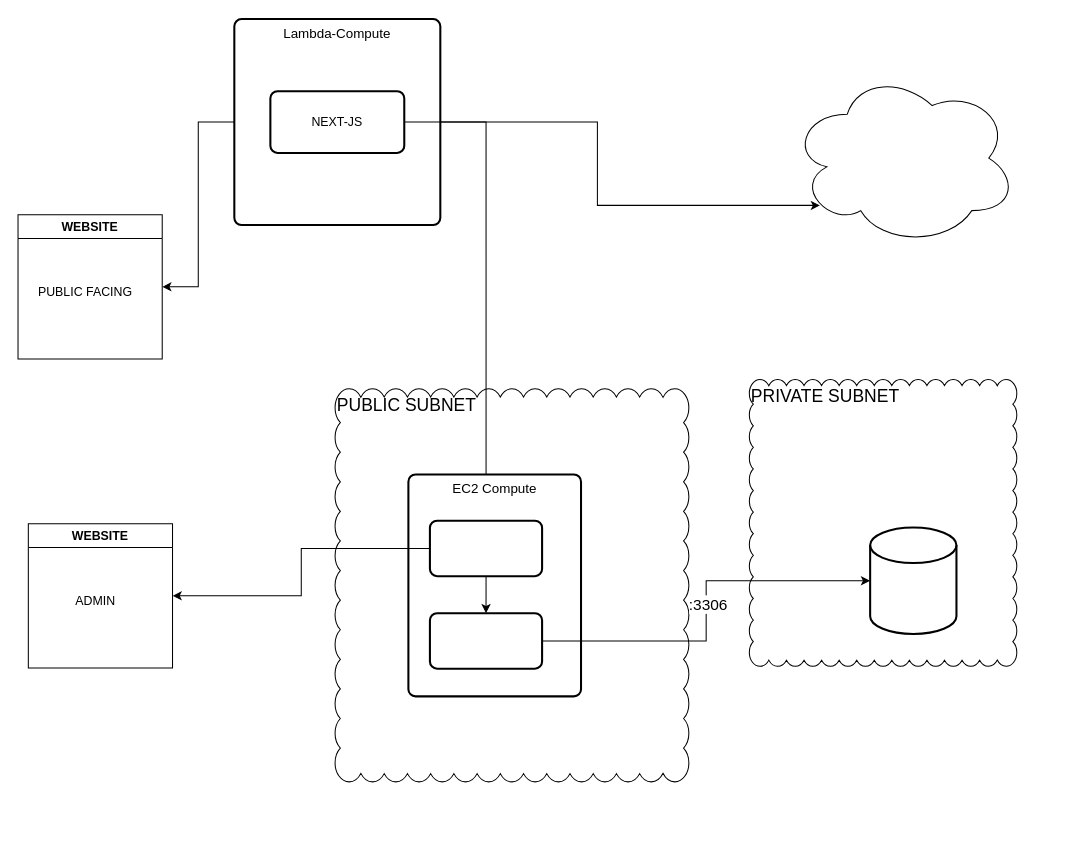
The diagram is 1087 pixels wide and 850 high, and some of its shapes have lost their labels. Each missing label, with the centre of its shape:
AUTH0 user auth service: pixel 903 158
MySql RDS: pixel 913 580
NGNIX: pixel 485 548
STRAPI: pixel 485 640
